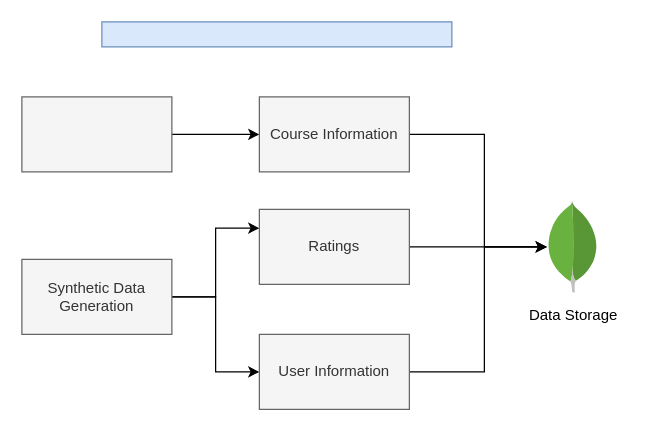
Image size: 651x431. Some labels were removed from this diagram. The centre of each missing label's shape, as x and y in pixels:
Course Recommendation System: Data Pipeline: the point at 276,34
Web Scraping: the point at 96,134
